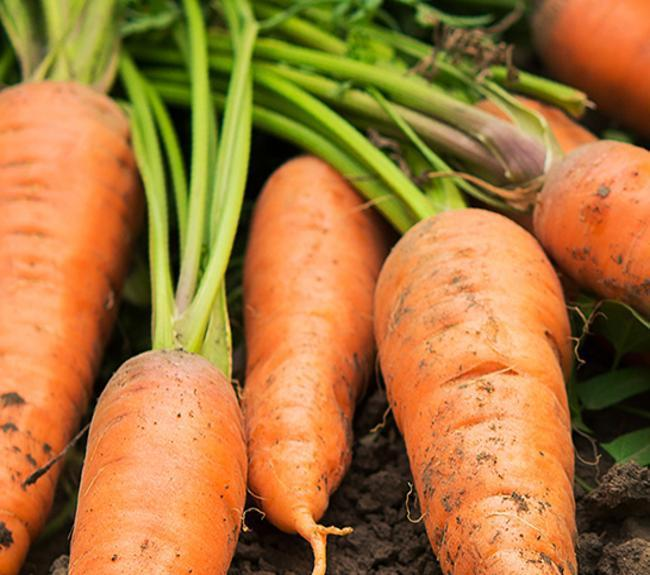carrot: (0, 110, 650, 575), (338, 184, 609, 575), (229, 141, 386, 554), (0, 81, 115, 575), (58, 325, 254, 575), (518, 68, 650, 318)
